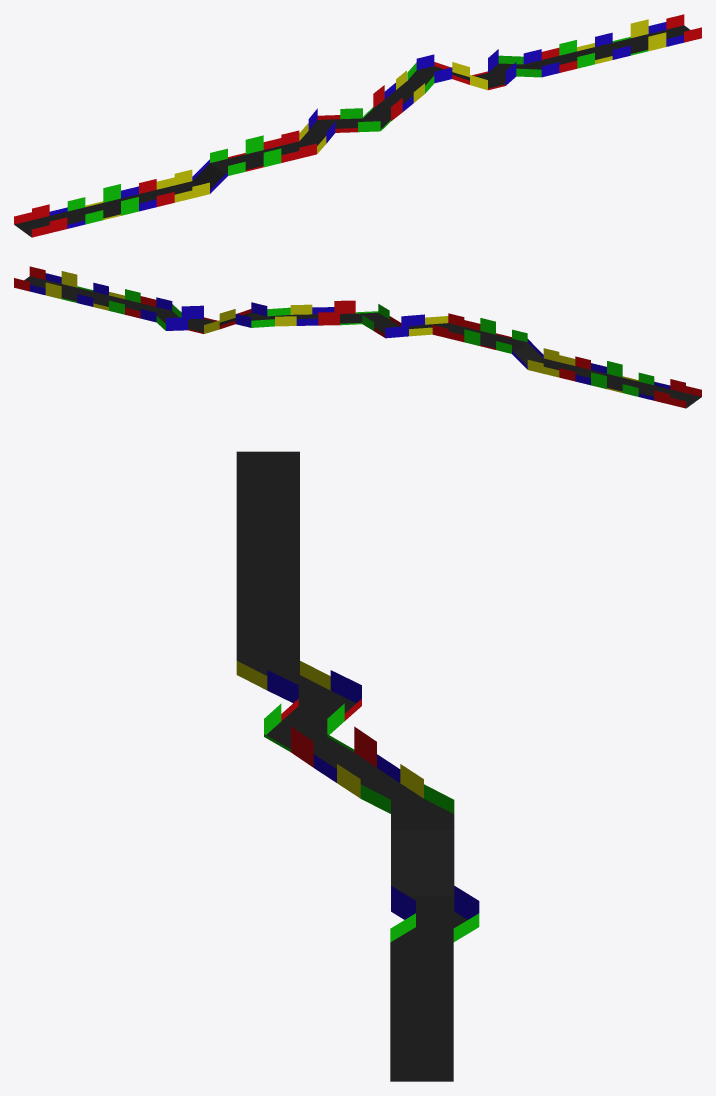
File: Escape walkway.fbx
The picture shows the model from 3 angles, top to bottom: view 1: azimuth 30°, elevation 25°; view 2: azimuth 150°, elevation 25°; view 3: azimuth 270°, elevation 25°; orthographic projection. The views are drawn at different scales.
Visible parts, largest first — view 1: Plane.003, Plane.004, Plane, Plane.002, Plane.001; view 2: Plane.002, Plane.003, Plane.004, Plane, Plane.001; view 3: Plane.001, Plane.002, Plane.004, Plane, Plane.003.
Part boxes in pixels (left/top/right/bottom): Plane.003: left=156, top=130, right=316, bottom=202; Plane.004: left=14, top=179, right=174, bottom=237; Plane: left=541, top=14, right=701, bottom=72; Plane.002: left=299, top=70, right=424, bottom=153; Plane.001: left=407, top=49, right=559, bottom=93; Plane.002: left=275, top=300, right=448, bottom=338; Plane.003: left=432, top=313, right=575, bottom=377; Plane.004: left=559, top=356, right=701, bottom=408; Plane: left=14, top=266, right=156, bottom=318; Plane.001: left=140, top=297, right=290, bottom=333; Plane.001: left=360, top=784, right=479, bottom=957; Plane.002: left=236, top=661, right=423, bottom=798; Plane.004: left=236, top=451, right=299, bottom=575; Plane: left=390, top=958, right=453, bottom=1081; Plane.003: left=236, top=575, right=299, bottom=674.
Size of the model in its own units: 10840 by 504 by 1797.
